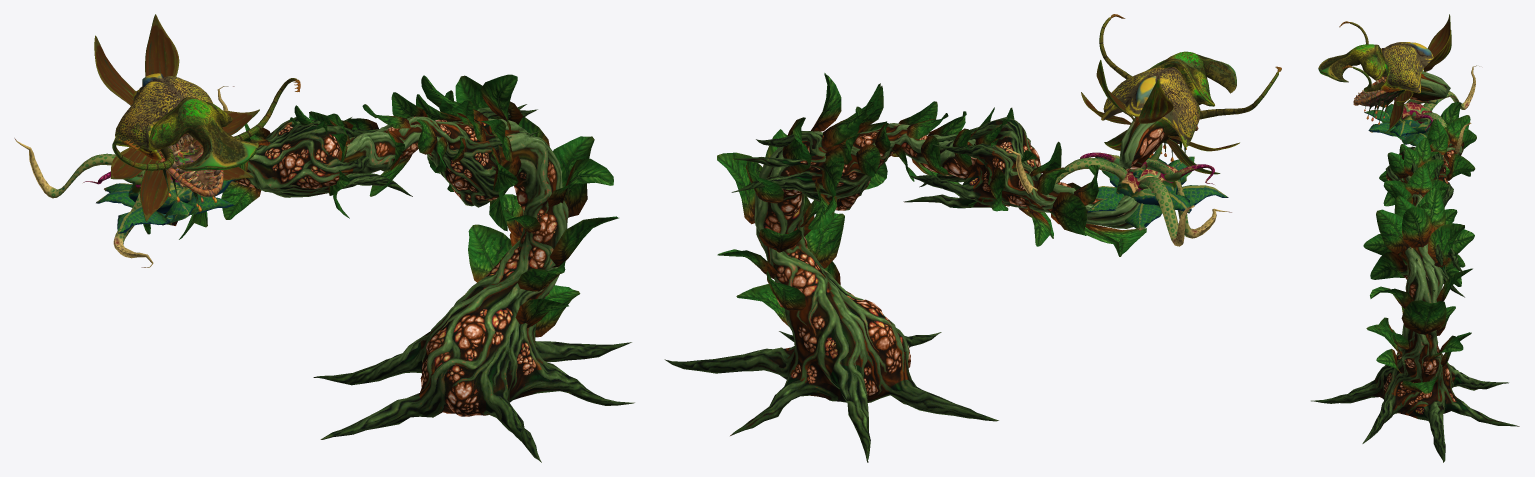
Rendered from arborabom.glb.
3 views of the same model, side by side, from view 1: azimuth 30°, elevation 25°; view 2: azimuth 150°, elevation 25°; view 3: azimuth 270°, elevation 25° (orthographic). The views are drawn at different scales.
Parts seen in each view (by area): view 1: neck_base, neck_mid, neck_top, mask, headarmor, headfins_01, headcore_leaves, headfins_02, jaw, headtent2, headfins_03, headcore (+1 smaller); view 2: neck_base, neck_top, neck_mid, headarmor, headcore_leaves, mask, turret02, headfins_01, headtent2, headtent1, headcore, headtent3 (+1 smaller); view 3: neck_base, neck_mid, neck_top, headarmor, mask, headcore_leaves, turret02, jaw, headfins_01, headfins_03, headcore, headtent2 (+1 smaller).
Boxes of the visible parts, x1,y1,x2,y2 form: neck_base: (313,74,634,462); neck_mid: (289,90,540,218); neck_top: (136,117,412,239); mask: (148,97,258,171); headarmor: (113,73,212,160); headfins_01: (94,14,179,105); headcore_leaves: (96,179,234,233); headfins_02: (110,147,170,221); jaw: (158,137,223,211); headtent2: (14,138,142,198); headfins_03: (222,109,259,180); headcore: (128,176,193,213); neck_base: (664,73,998,462); neck_top: (903,117,1146,256); neck_mid: (731,101,1014,210); headarmor: (1101,67,1200,147); headcore_leaves: (1087,154,1228,230); mask: (1146,51,1236,106); turret02: (1118,116,1178,169); headfins_01: (1096,60,1173,123); headtent2: (1138,177,1194,246); headtent1: (1003,144,1127,193); headcore: (1116,161,1180,205); headtent3: (1133,159,1231,238); neck_base: (1311,186,1519,462); neck_mid: (1379,137,1464,297); neck_top: (1385,102,1476,207); headarmor: (1381,42,1433,93); mask: (1318,44,1388,82); headcore_leaves: (1364,103,1428,146); turret02: (1361,64,1450,101); jaw: (1353,79,1398,124); headfins_01: (1423,14,1451,71); headfins_03: (1384,90,1413,133); headcore: (1395,103,1432,134); headtent2: (1423,65,1479,112).
Bounding box in the file's own units: 20.65 × 14.96 × 9.85.
Materials: 4 (3 with a texture image).
